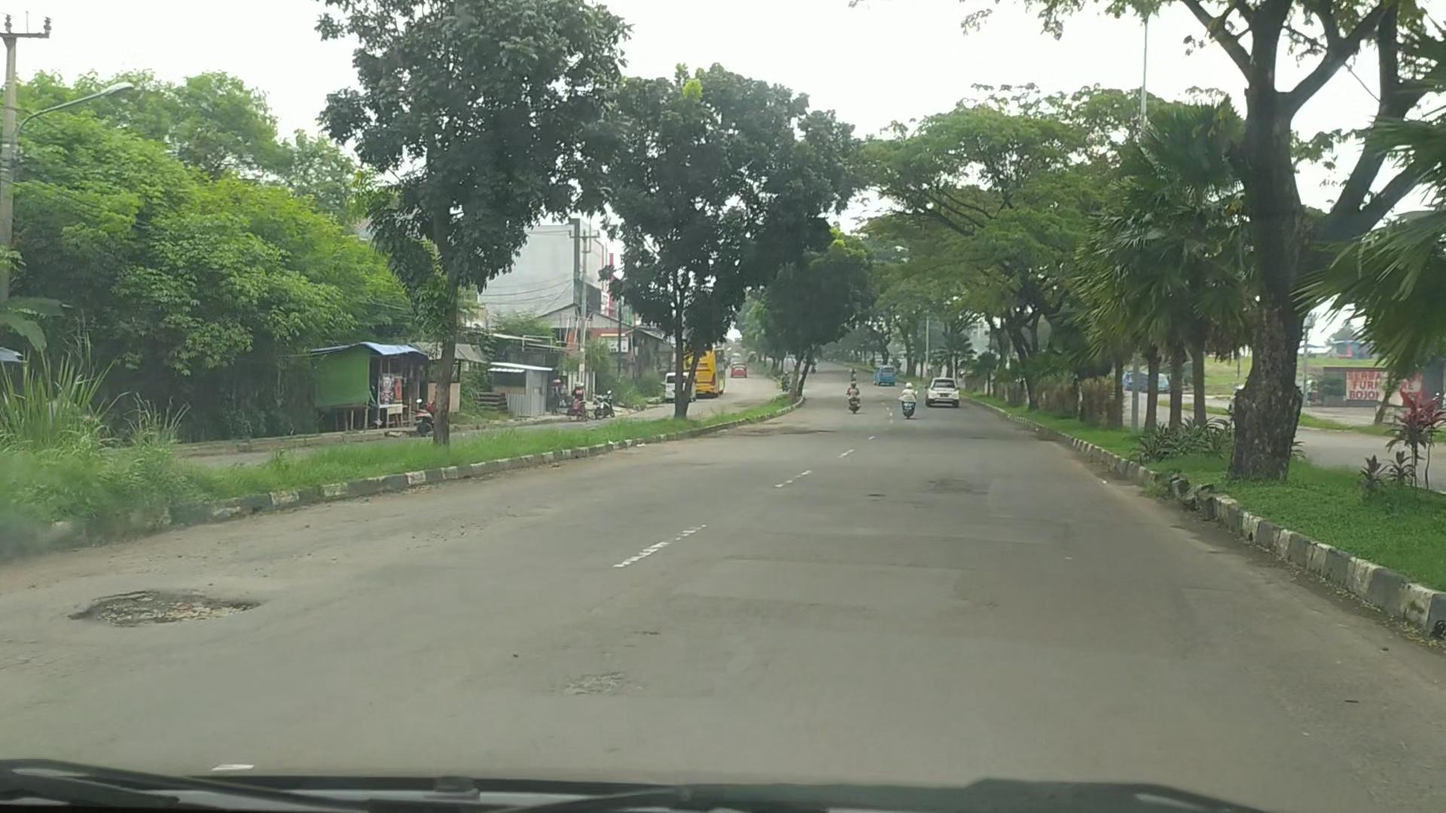pothole: (63, 587, 263, 627)
